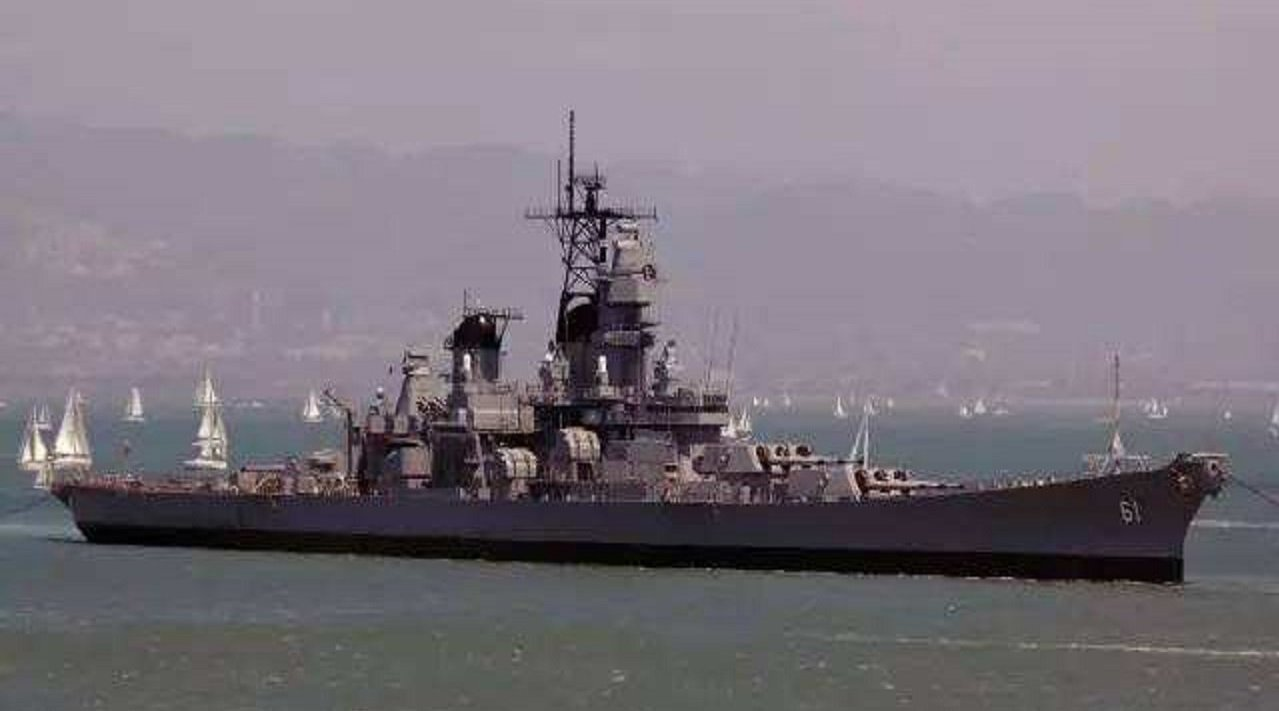bird: (54, 105, 1252, 579)
fanchuan: (178, 398, 242, 473), (47, 383, 97, 476), (14, 402, 52, 473)
